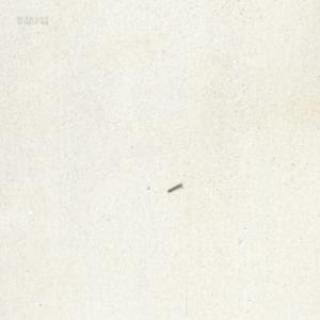Bolttrack_idkeyframe: (166, 180, 181, 192)
